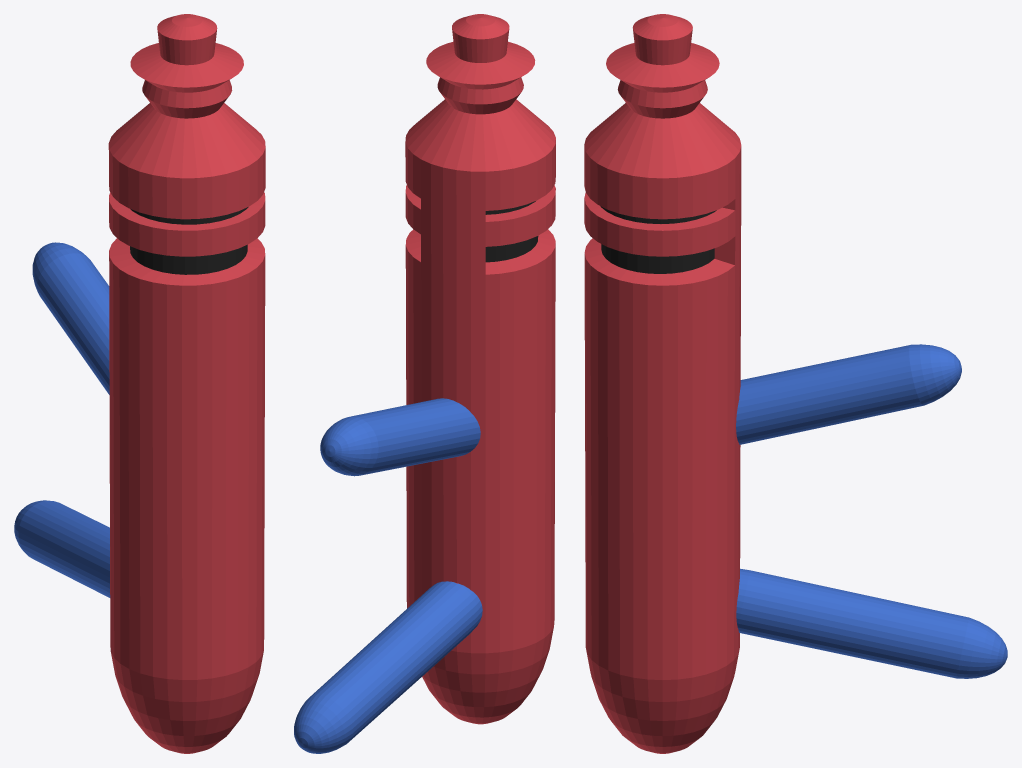
The model's file is Gun1.fbx.
3 views of the same model, side by side, from view 1: azimuth 30°, elevation 25°; view 2: azimuth 150°, elevation 25°; view 3: azimuth 270°, elevation 25° (orthographic). The views are drawn at different scales.
Parts seen in each view (by area): view 1: Sphere; view 2: Sphere; view 3: Sphere.
Boxes of the visible parts, x1,y1,x2,y2 form: Sphere: [14, 14, 265, 753]; Sphere: [294, 14, 555, 753]; Sphere: [584, 14, 1007, 753].
Bounding box in the file's own units: 112 × 576 × 302.
